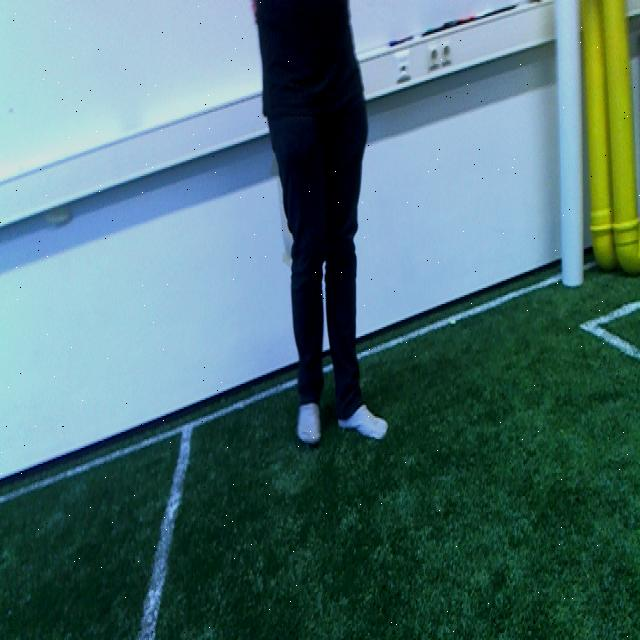goalpost: (551, 0, 582, 288)
